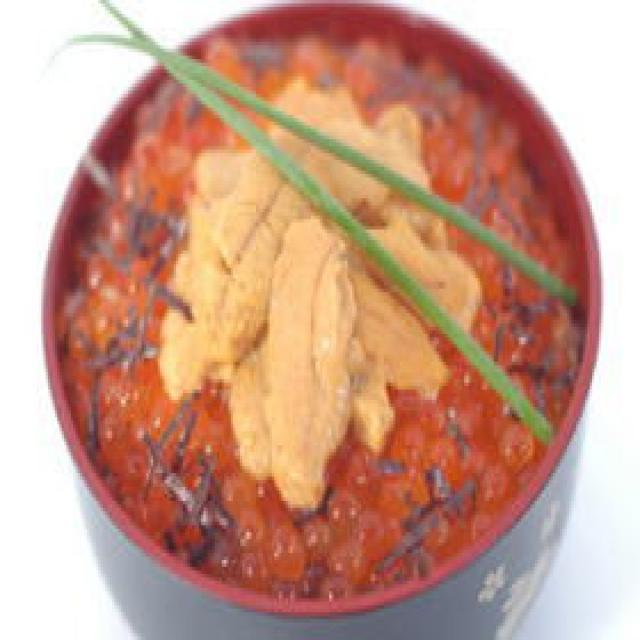刺身生食: (34, 0, 601, 640)
